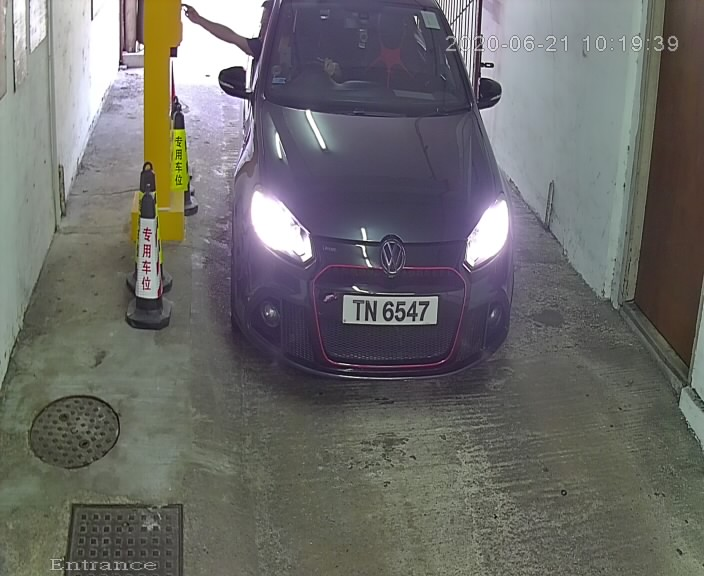privatecar: (200, 1, 531, 404)
